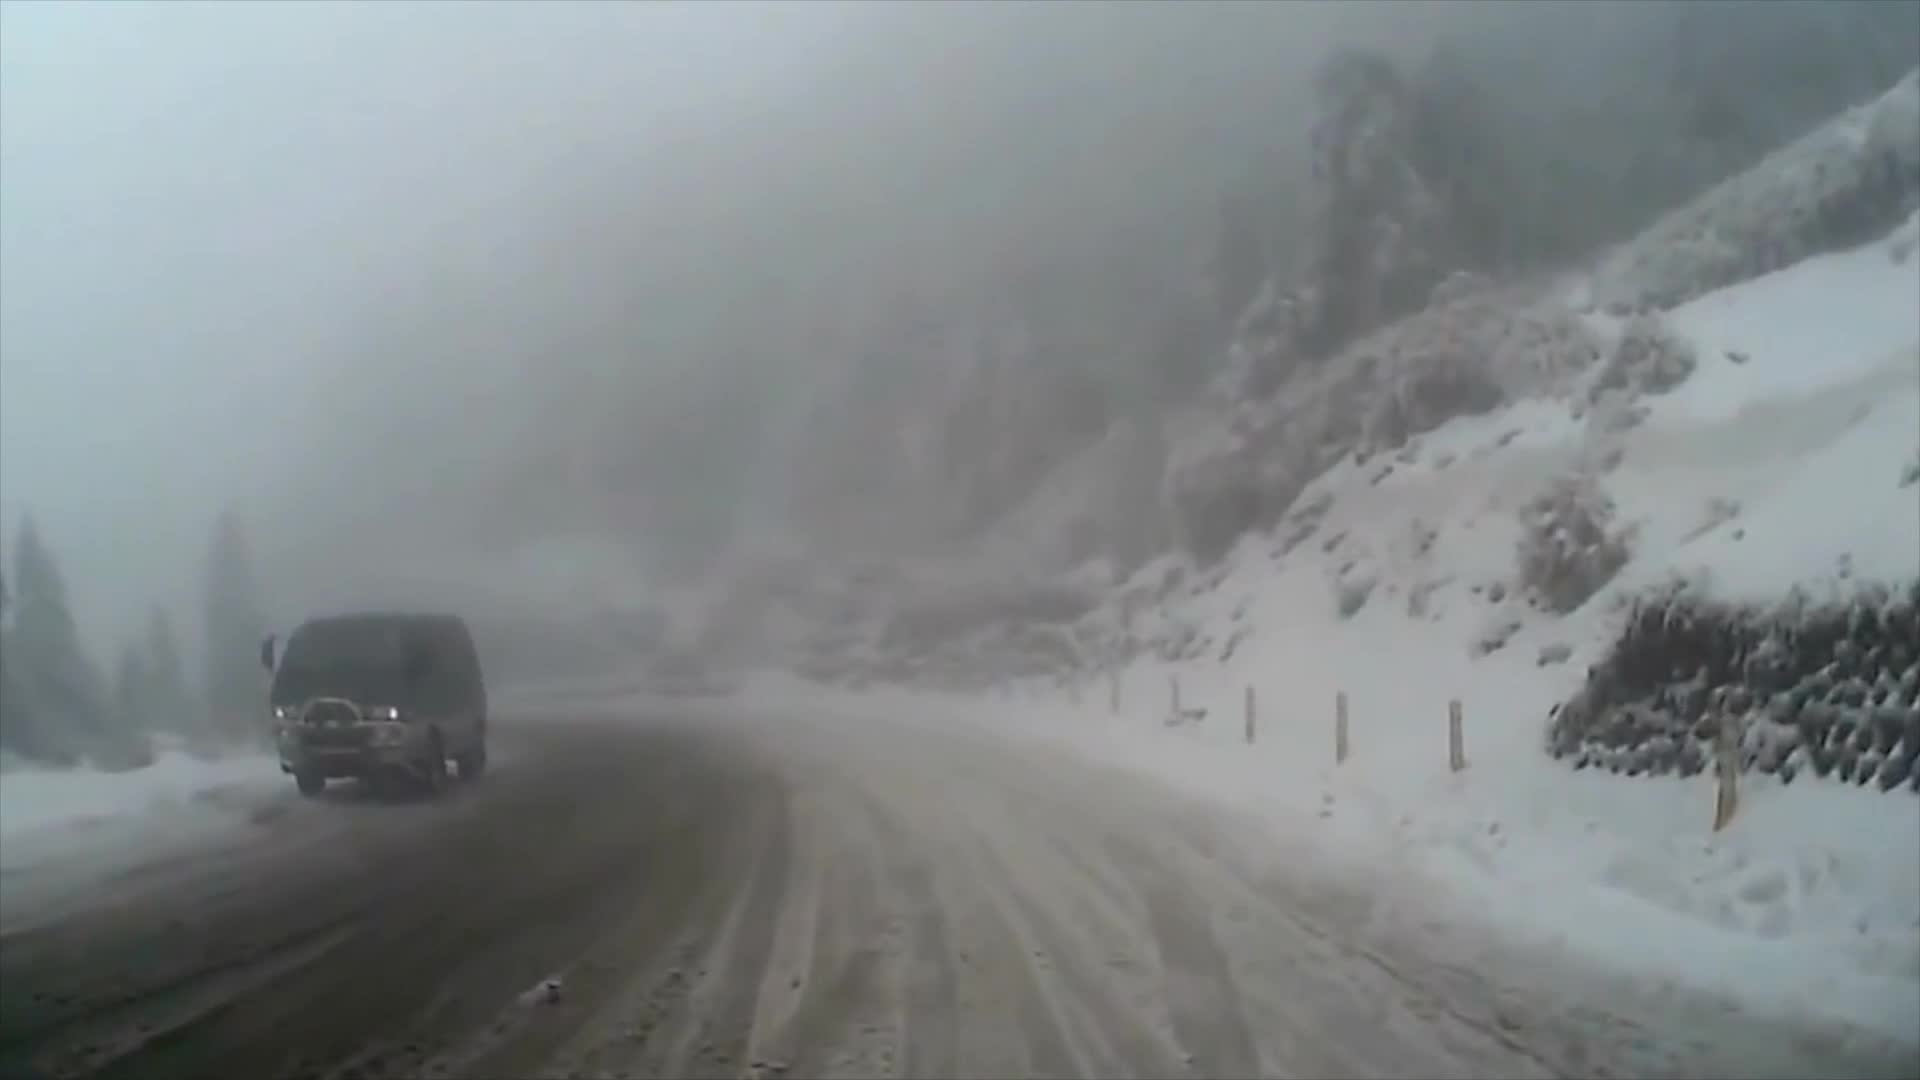vehicle: (255, 607, 487, 796)
